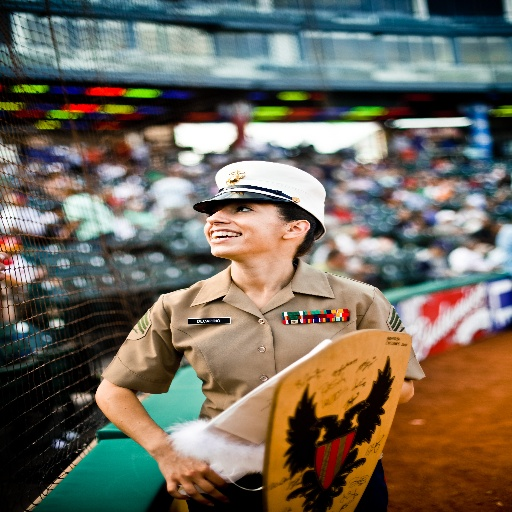hand: (151, 445, 235, 503)
